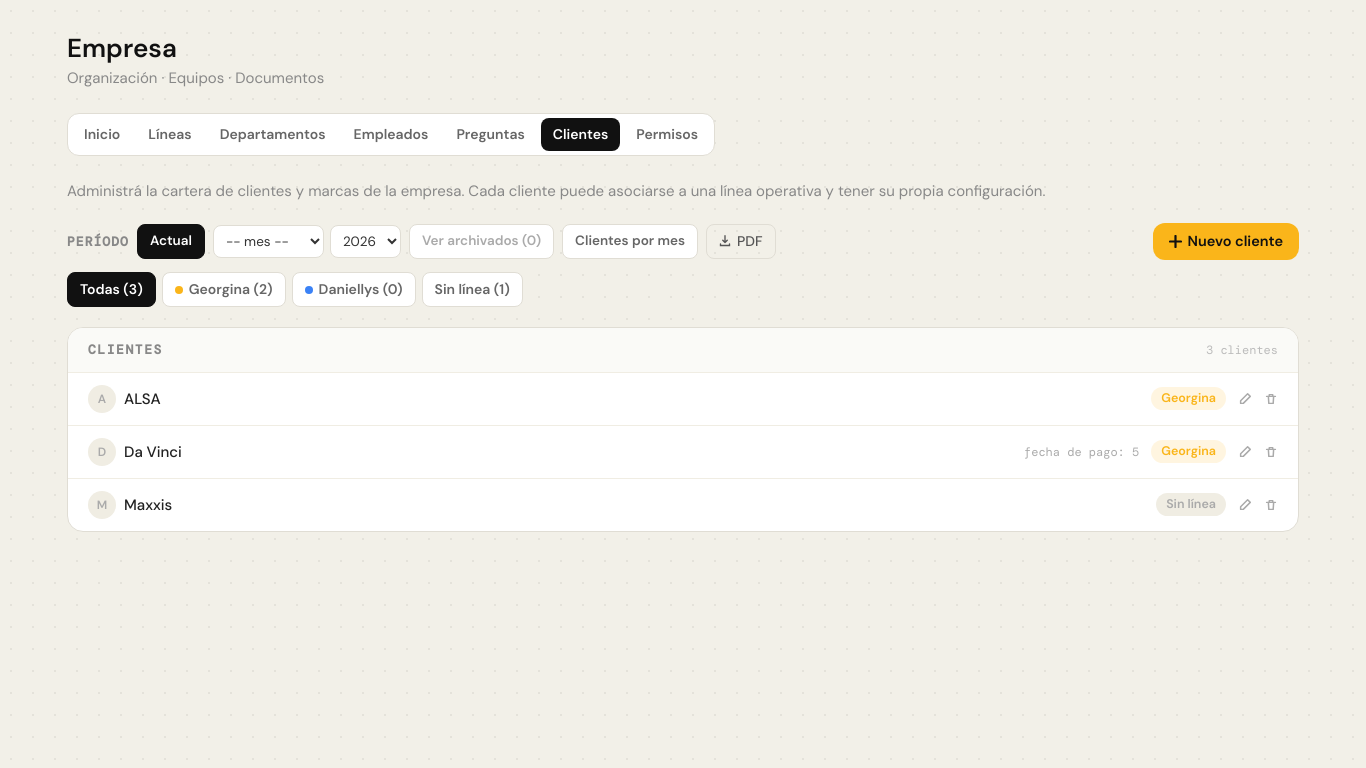
Test: ClientsView (sección Clientes en Empresa) — lista plana › "Nuevo cliente" abre el modal de creación
Expected: the text "ALSA" is shown, [124, 388, 161, 410]
Click the button "Nuevo cliente".
click(1226, 241)  # box [1152, 222, 1299, 260]
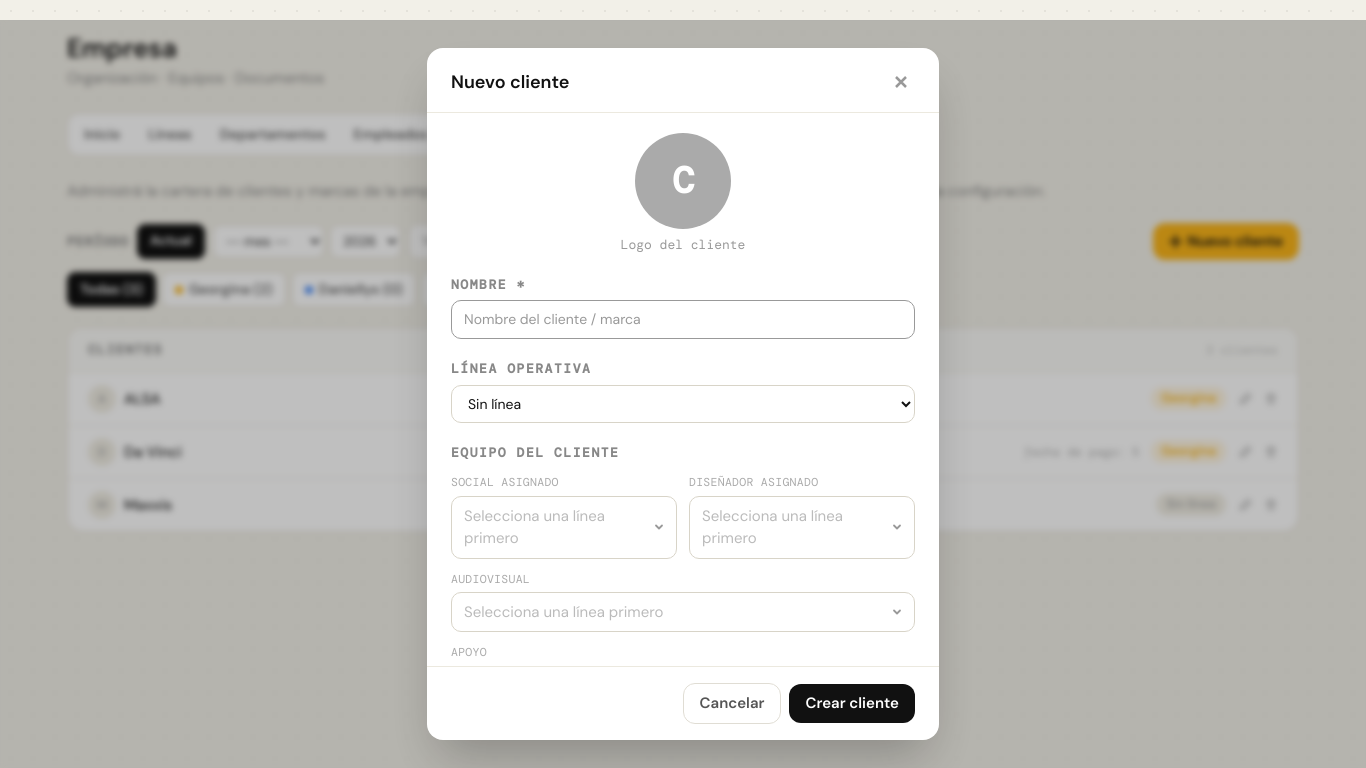
Expected: the heading "Nuevo cliente" is shown, [451, 69, 570, 96]
